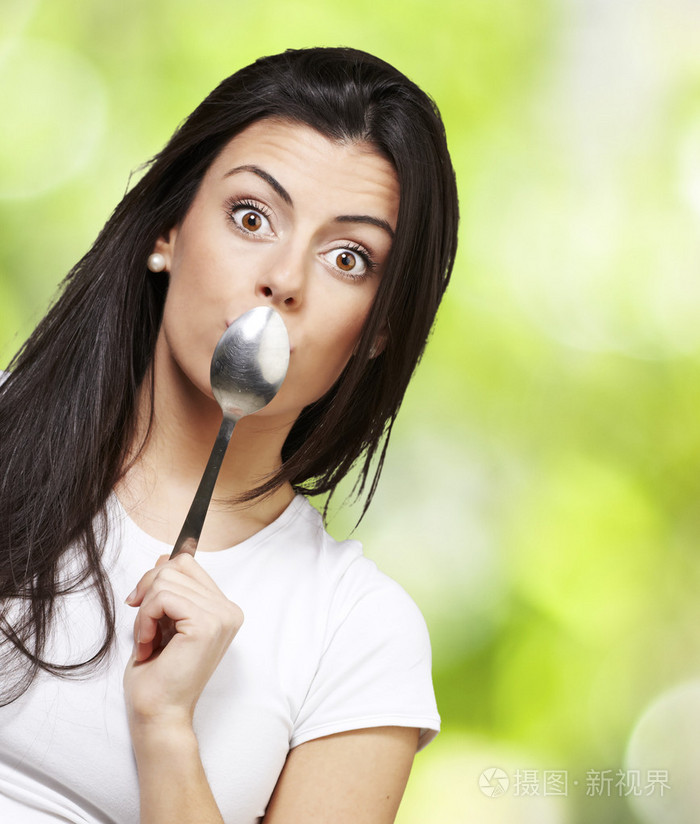no-phone: (109, 477, 251, 732)
